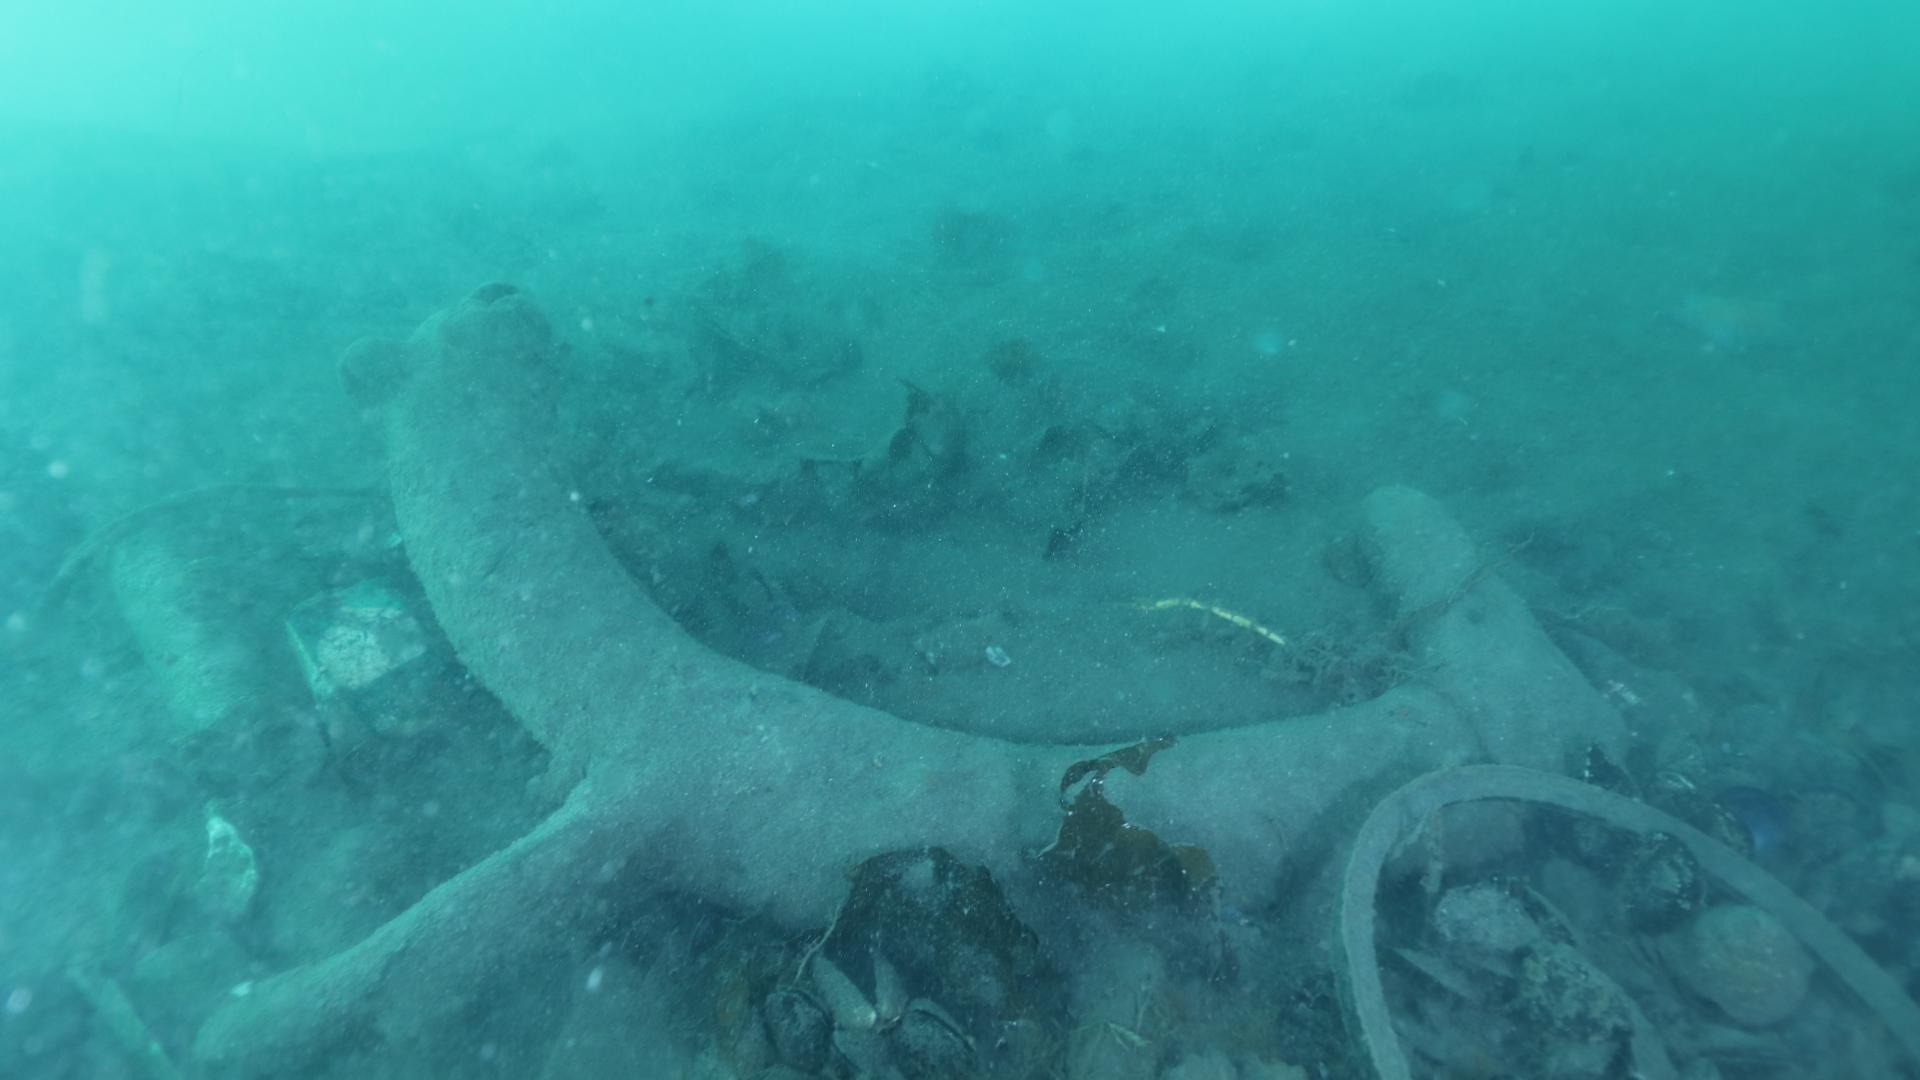wood: (187, 281, 1629, 1080)
